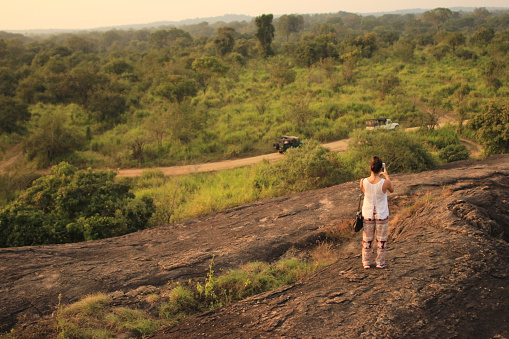em pe: (354, 148, 389, 274)
